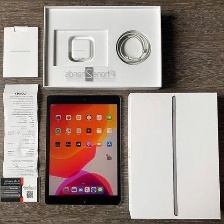book: (126, 89, 221, 222), (40, 1, 164, 93), (0, 82, 40, 205), (1, 23, 39, 79)
phone: (42, 93, 123, 206)
